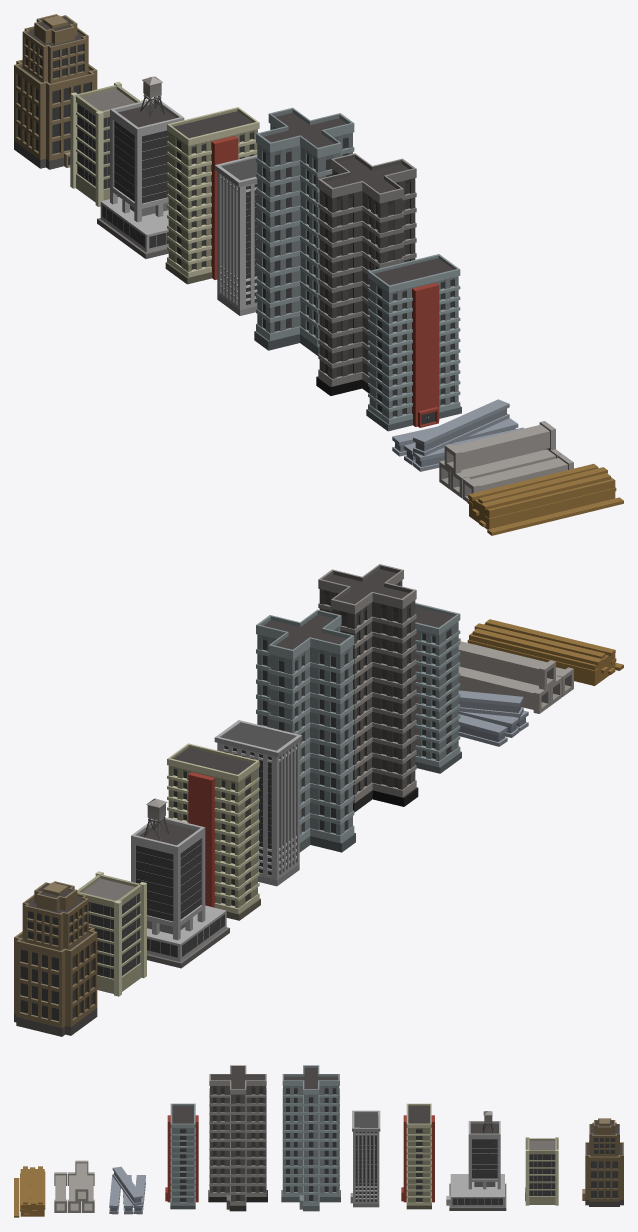
The model's file is Props&Buildings.fbx.
3 renders of one model, top to bottom at view 1: azimuth 30°, elevation 25°; view 2: azimuth 150°, elevation 25°; view 3: azimuth 270°, elevation 25°, orthographic. The views are drawn at different scales.
Visible parts, largest first — view 1: Building2, Building3, Building1, Building5, Building6, Building8, Block1, Block2, Building4, Building7, Block3; view 2: Building3, Building2, Building5, Building8, Building6, Building4, Building1, Building7, Block2, Block1, Block3; view 3: Building3, Building2, Building6, Building1, Building5, Building8, Building4, Building7, Block2, Block1, Block3.
Part boxes in pixels (x1,y1,x2,y2): Building2: (316, 153, 416, 395); Building3: (254, 107, 354, 355); Building1: (366, 254, 461, 431); Building5: (165, 107, 259, 284); Building6: (97, 76, 184, 258); Building8: (14, 14, 97, 169); Block1: (467, 463, 623, 535); Block2: (439, 421, 573, 502); Building4: (214, 155, 257, 315); Building7: (70, 81, 143, 206); Block3: (392, 399, 524, 471); Building3: (256, 609, 355, 852); Building2: (318, 564, 418, 812); Building5: (167, 743, 260, 920); Building8: (14, 881, 97, 1036); Building6: (131, 798, 229, 968); Building4: (214, 720, 302, 886); Building1: (415, 603, 461, 773); Building7: (77, 871, 146, 996); Block2: (458, 638, 573, 713); Block1: (467, 619, 623, 685); Block3: (458, 690, 528, 746); Building3: (281, 1065, 340, 1211); Building2: (208, 1065, 267, 1211); Building6: (446, 1111, 506, 1210); Building1: (165, 1103, 198, 1209); Building5: (401, 1103, 434, 1209); Building8: (582, 1118, 623, 1206); Building4: (350, 1110, 380, 1207); Building7: (525, 1137, 558, 1205); Block2: (54, 1160, 94, 1212); Block1: (14, 1166, 45, 1217); Block3: (109, 1166, 145, 1214).
Size of the model in its own units: 39.25 by 58.6 by 267.
Materials: 1 (1 with a texture image).
